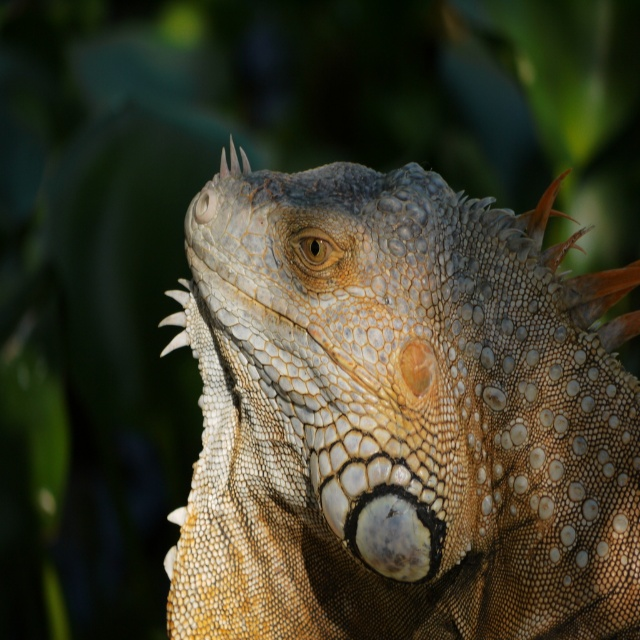Lizard: (170, 95, 640, 640)
